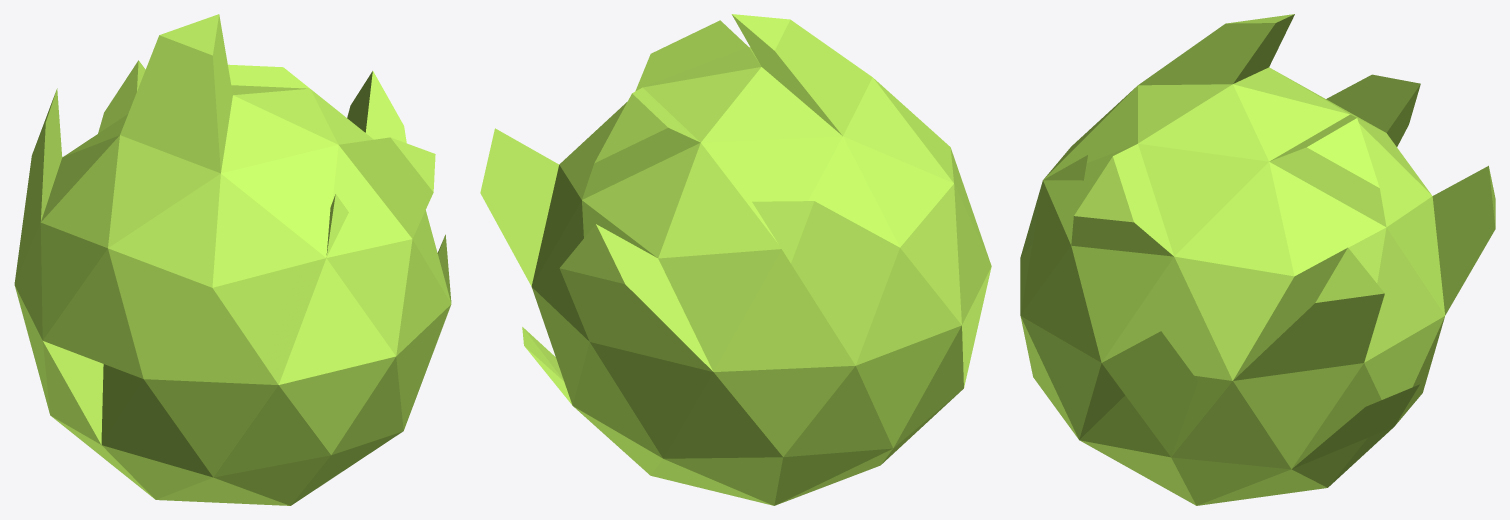
Rendered from Bush.fbx.
The picture shows the model from 3 angles, left to right: view 1: azimuth 30°, elevation 25°; view 2: azimuth 150°, elevation 25°; view 3: azimuth 270°, elevation 25°; orthographic projection. The views are drawn at different scales.
Visible parts, largest first — view 1: Bush; view 2: Bush; view 3: Bush.
Boxes of the visible parts, bbox=[...] form: Bush: bbox=[14, 14, 451, 505]; Bush: bbox=[480, 14, 991, 505]; Bush: bbox=[1020, 14, 1495, 505].
Bounding box in the file's own units: 143 × 157 × 144.
